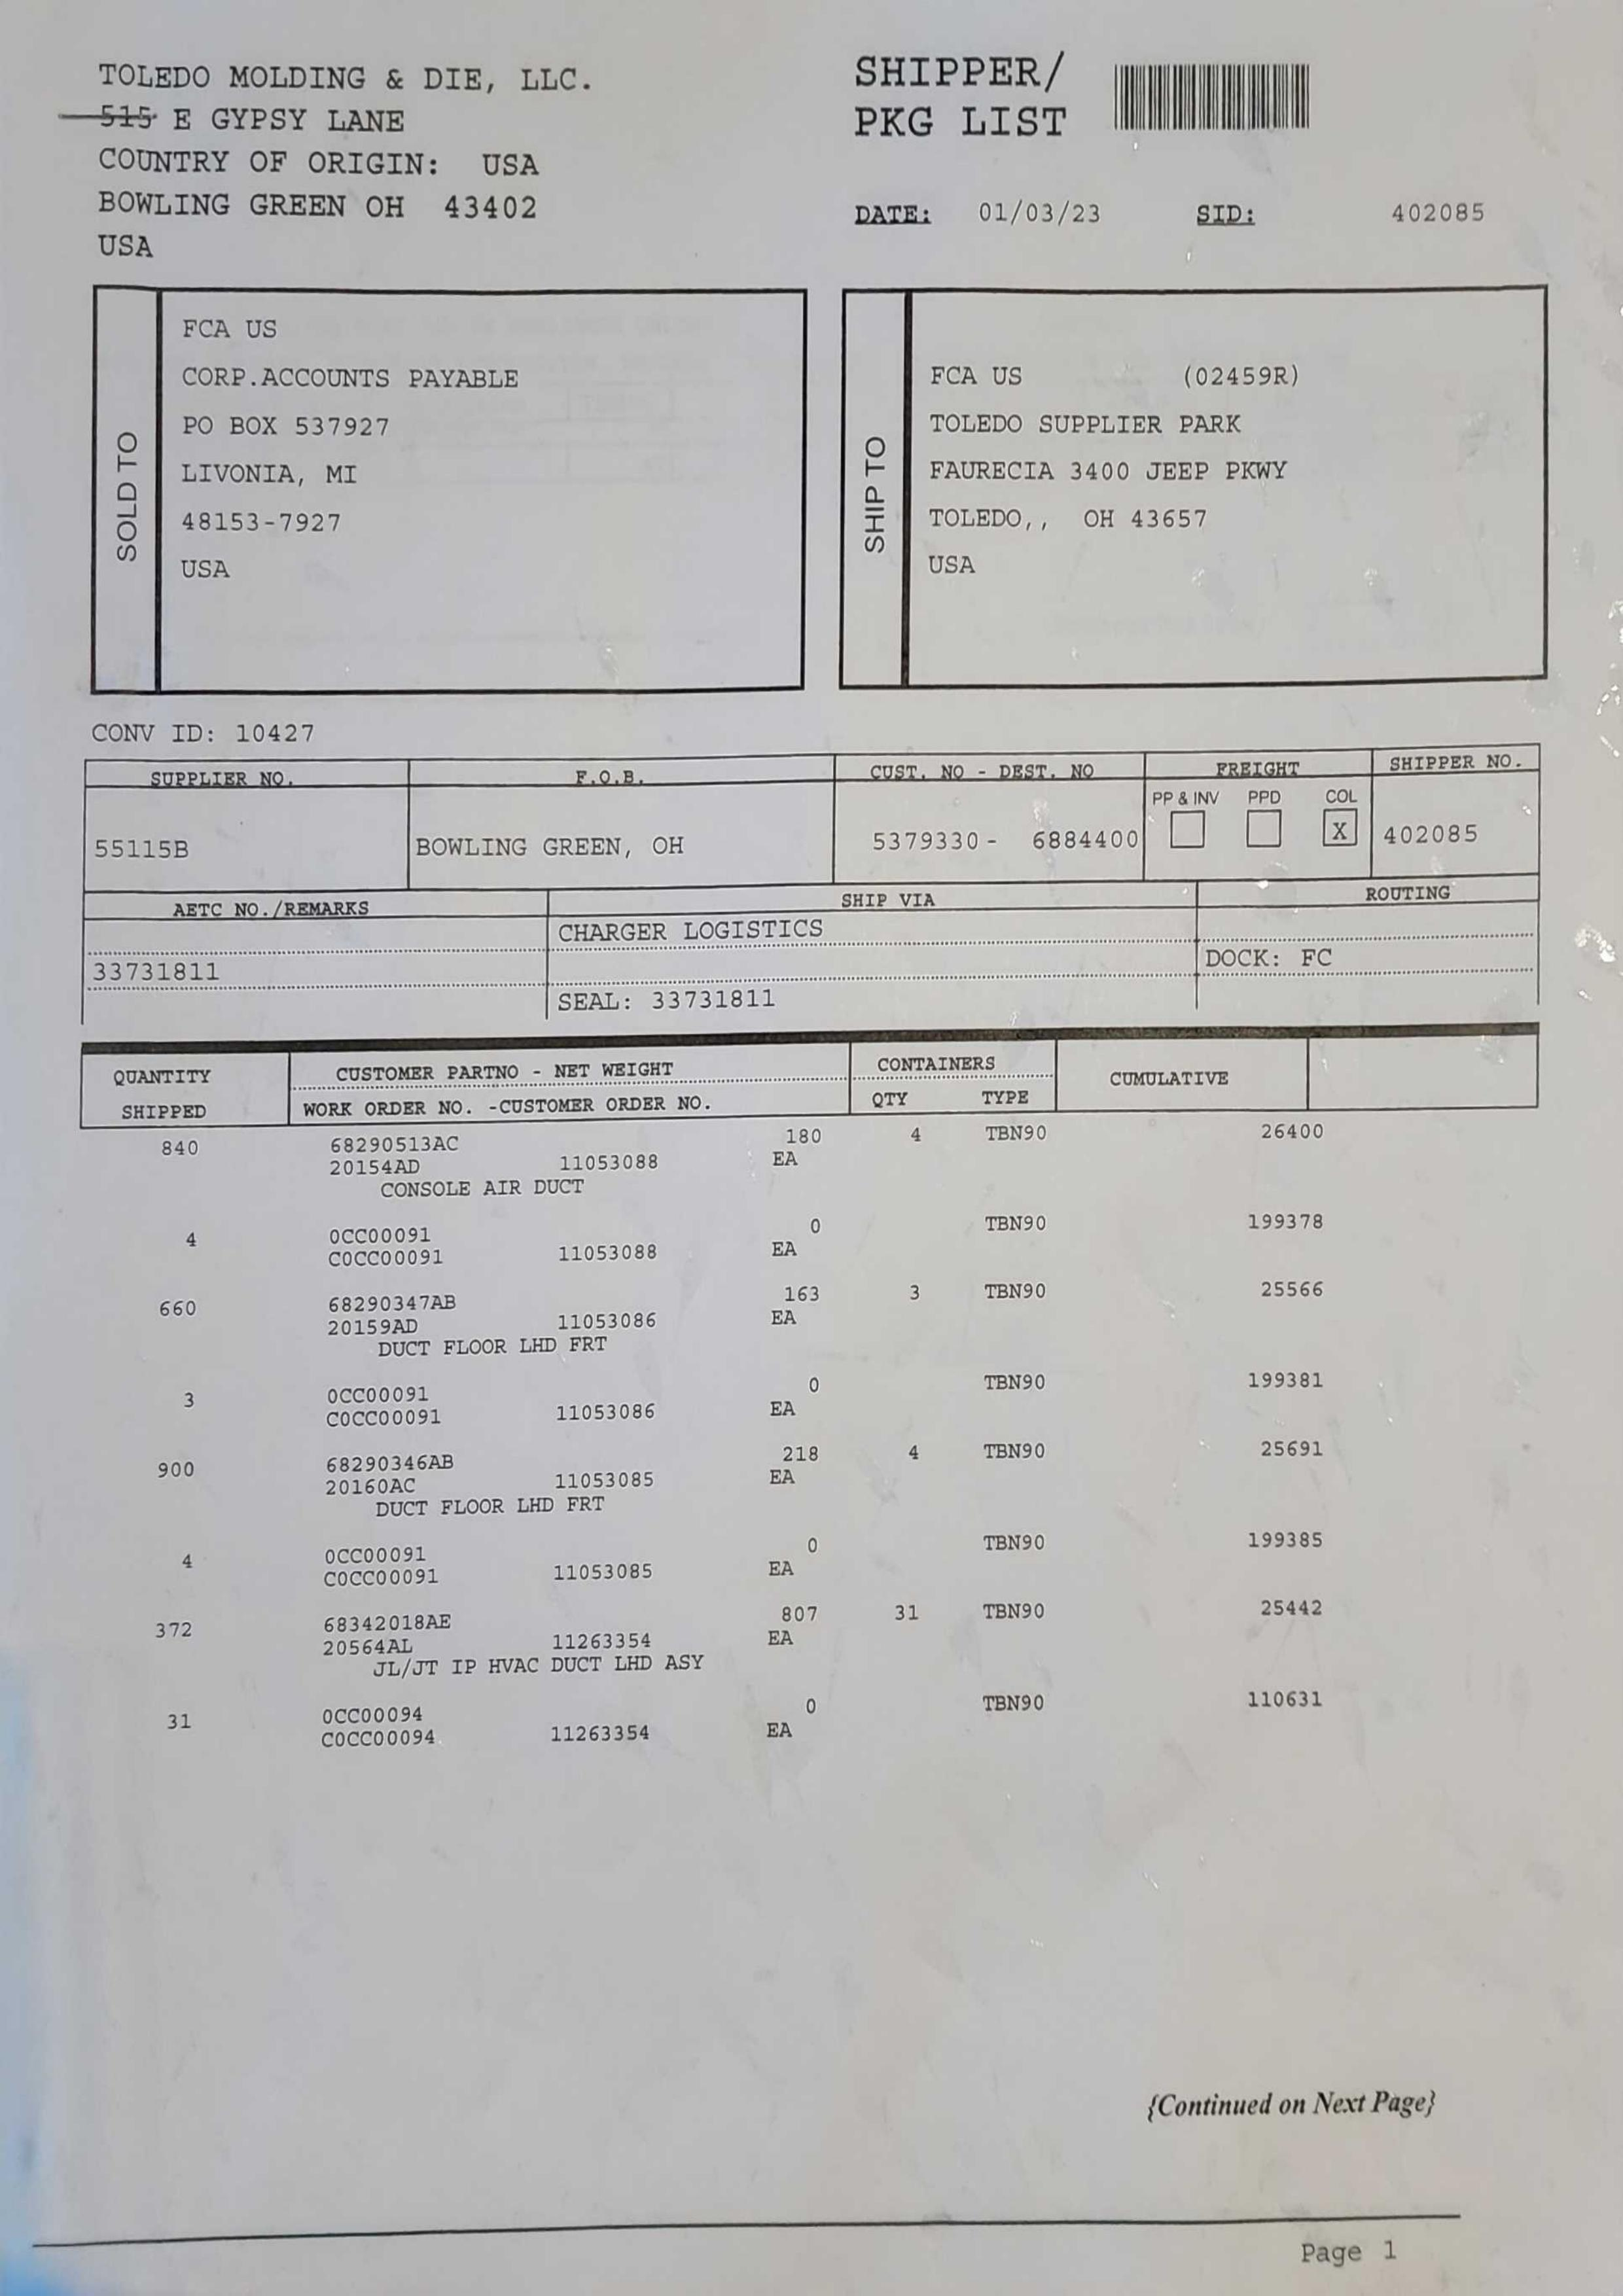B_Paragraph: (86, 33, 599, 277), (170, 309, 530, 613), (922, 339, 1344, 585), (1142, 2078, 1446, 2127), (1201, 195, 1493, 235), (852, 195, 1105, 235), (88, 714, 318, 746), (1295, 2224, 1403, 2278)
B_SubTitle: (833, 421, 905, 574), (102, 407, 149, 576)
B_Table: (88, 1039, 1409, 1757), (86, 737, 1539, 1016)
B_Title: (843, 37, 1078, 154)
